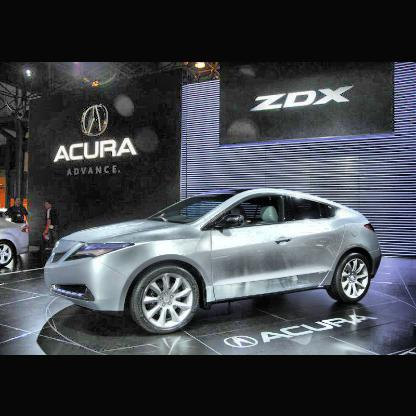Acura ZDX Hatchback 2012: (47, 184, 386, 330)
